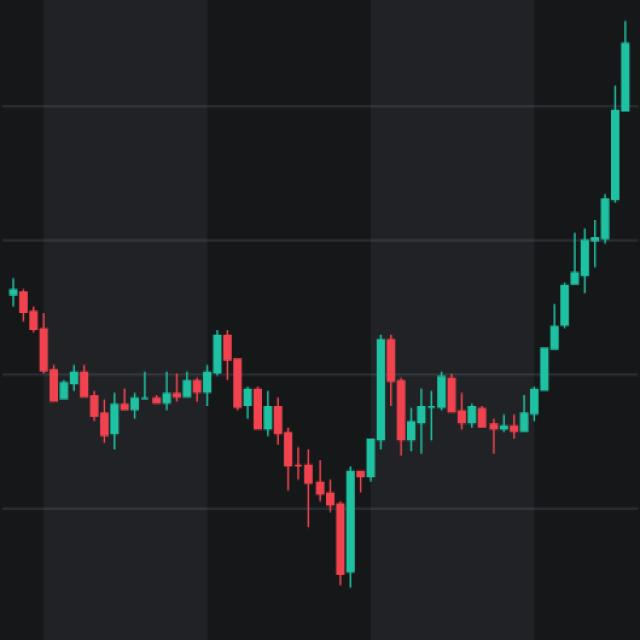Inverse-Head-Shoulders: (11, 236, 612, 597)
